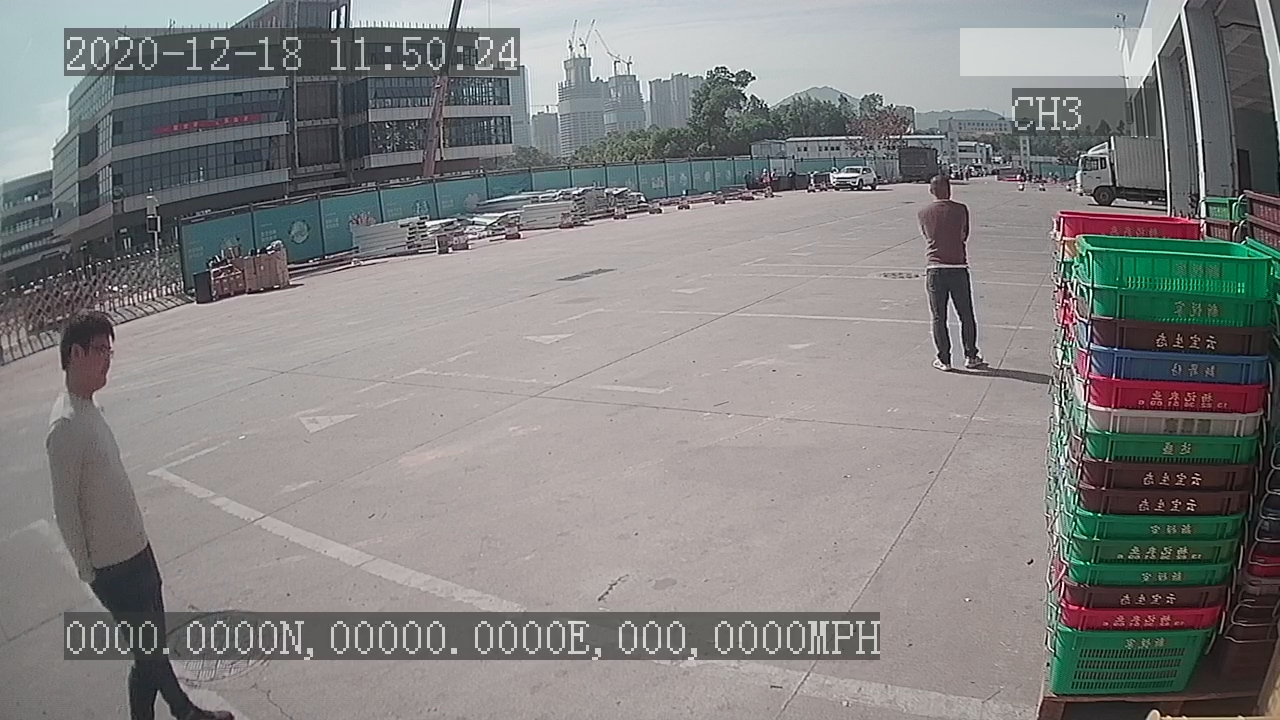person: (908, 172, 992, 376)
